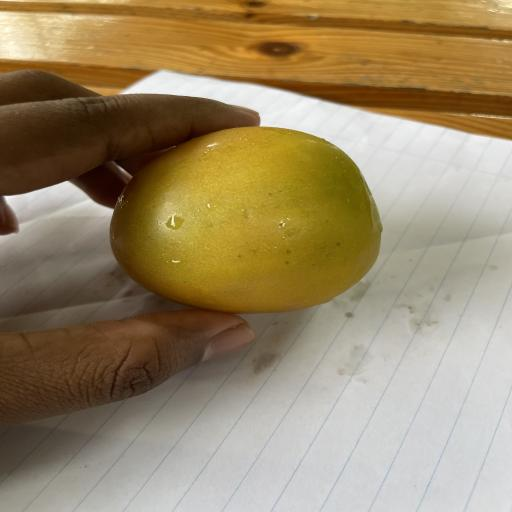unripe: (110, 127, 382, 313)
